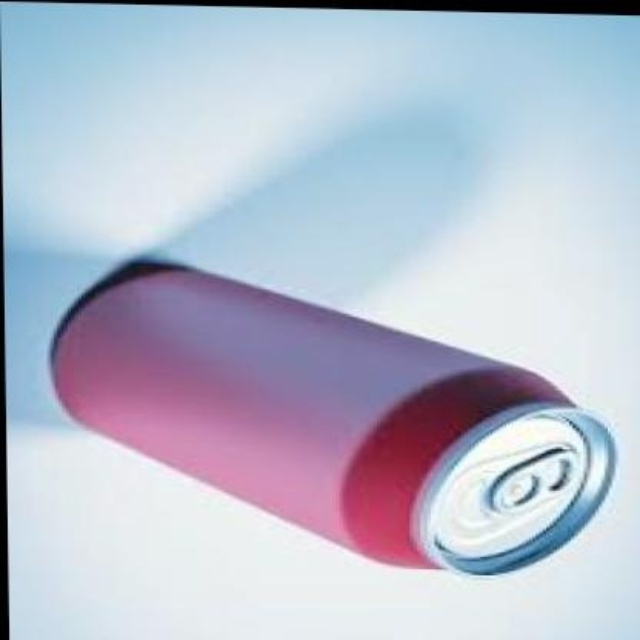trash: (51, 262, 612, 572)
